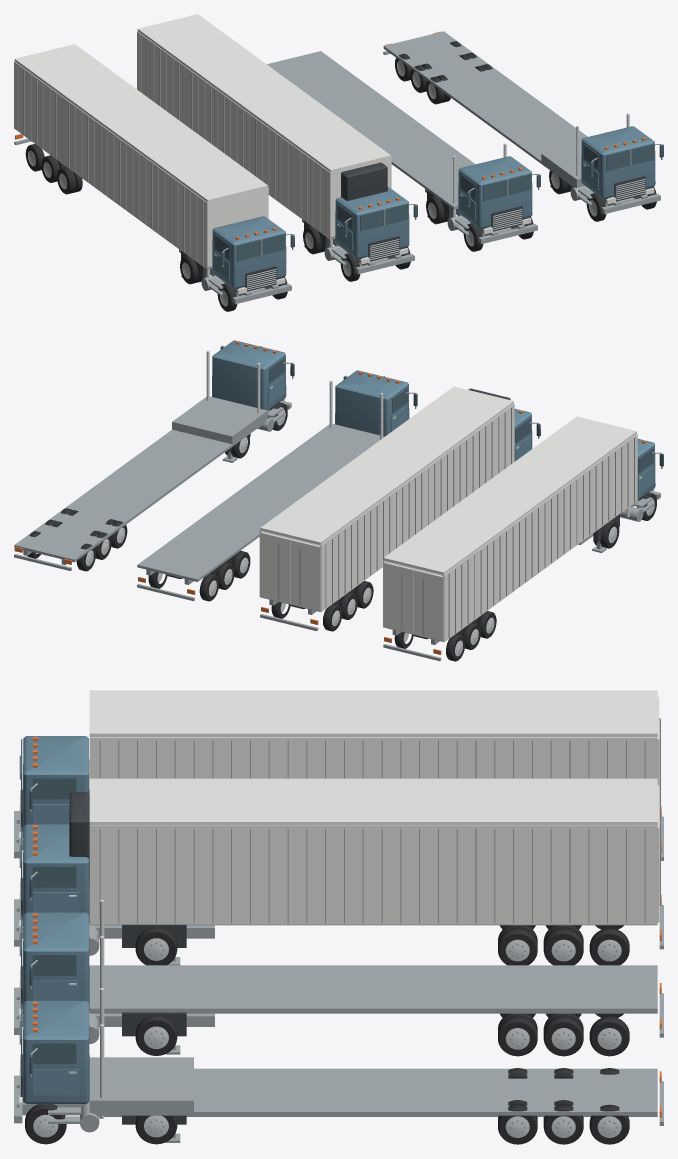
The model's file is long-haul-trucking-and-truck-stop-trailer-connector-ca-7298a563__14030.glb.
The picture shows the model from 3 angles, top to bottom: view 1: azimuth 30°, elevation 25°; view 2: azimuth 150°, elevation 25°; view 3: azimuth 270°, elevation 25°; orthographic projection. The views are drawn at different scales.
Visible parts, largest first — view 1: 001-dry-van-trailer/20, 003-refrigerated-trailer/20, 007-step-deck-trailer/18, 005-flatbed-trailer/18, 001-dry-van-trailer/18, 003-refrigerated-trailer/18, 006-cabover-day-cab/13, 004-cabover-day-cab/13, 000-cabover-day-cab/13, 002-cabover-day-cab/13, 003-refrigerated-trailer/23, 004-cabover-day-cab/16 (+14 smaller); view 2: 001-dry-van-trailer/20, 003-refrigerated-trailer/20, 007-step-deck-trailer/18, 005-flatbed-trailer/18, 001-dry-van-trailer/18, 006-cabover-day-cab/13, 003-refrigerated-trailer/18, 004-cabover-day-cab/13, 001-dry-van-trailer/rear-door--1, 003-refrigerated-trailer/rear-door--1, 001-dry-van-trailer/rear-door-1, 003-refrigerated-trailer/rear-door-1 (+2 smaller); view 3: 003-refrigerated-trailer/20, 001-dry-van-trailer/20, 007-step-deck-trailer/18, 005-flatbed-trailer/18, 003-refrigerated-trailer/18, 006-cabover-day-cab/13, 004-cabover-day-cab/13, 000-cabover-day-cab/13, 002-cabover-day-cab/13, 001-dry-van-trailer/18, 006-cabover-day-cab/12, 003-refrigerated-trailer/23 (+24 smaller).
Boxes of the visible parts, x1,y1,x2,y2 form: 001-dry-van-trailer/20: (14,44,268,269); 003-refrigerated-trailer/20: (137,14,391,239); 007-step-deck-trailer/18: (383,31,587,187); 005-flatbed-trailer/18: (267,51,475,217); 001-dry-van-trailer/18: (14,66,212,277); 003-refrigerated-trailer/18: (140,36,335,247); 006-cabover-day-cab/13: (581,126,655,198); 004-cabover-day-cab/13: (458,156,532,228); 000-cabover-day-cab/13: (212,216,286,288); 002-cabover-day-cab/13: (335,186,409,258); 003-refrigerated-trailer/23: (341,162,387,200); 004-cabover-day-cab/16: (460,174,540,204); 001-dry-van-trailer/20: (383,416,637,642); 003-refrigerated-trailer/20: (259,386,514,612); 007-step-deck-trailer/18: (14,396,267,570); 005-flatbed-trailer/18: (137,424,384,600); 001-dry-van-trailer/18: (383,437,634,661); 006-cabover-day-cab/13: (212,340,286,410); 003-refrigerated-trailer/18: (260,407,511,631); 004-cabover-day-cab/13: (335,370,409,436); 001-dry-van-trailer/rear-door--1: (413,569,443,641); 003-refrigerated-trailer/rear-door--1: (290,539,320,611); 001-dry-van-trailer/rear-door-1: (383,562,413,634); 003-refrigerated-trailer/rear-door-1: (260,532,290,604); 003-refrigerated-trailer/20: (89,778,657,924); 001-dry-van-trailer/20: (89,690,657,778); 007-step-deck-trailer/18: (89,1057,663,1142); 005-flatbed-trailer/18: (89,965,663,1054); 003-refrigerated-trailer/18: (90,806,663,965); 006-cabover-day-cab/13: (22,1000,89,1104); 004-cabover-day-cab/13: (22,912,89,1012); 000-cabover-day-cab/13: (22,736,89,835); 002-cabover-day-cab/13: (22,824,89,923); 001-dry-van-trailer/18: (99,718,663,860); 006-cabover-day-cab/12: (14,1020,99,1132); 003-refrigerated-trailer/23: (69,792,89,885).
Size of the model in its own units: 18 by 3.9 by 15.56.
